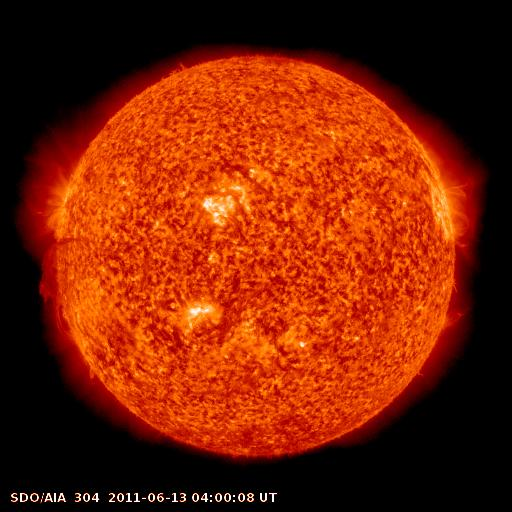prominence: (26, 241, 84, 346), (436, 292, 471, 338), (77, 360, 108, 385)
